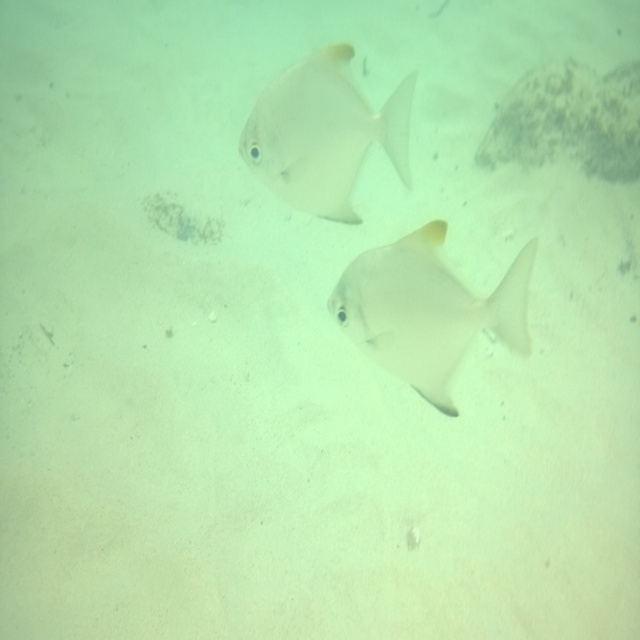Fish: (326, 219, 539, 417), (238, 42, 418, 224)
